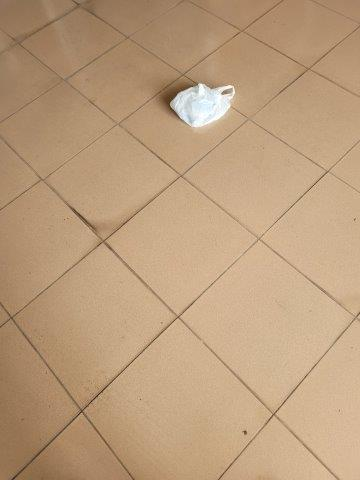plastik: (164, 84, 237, 128)
